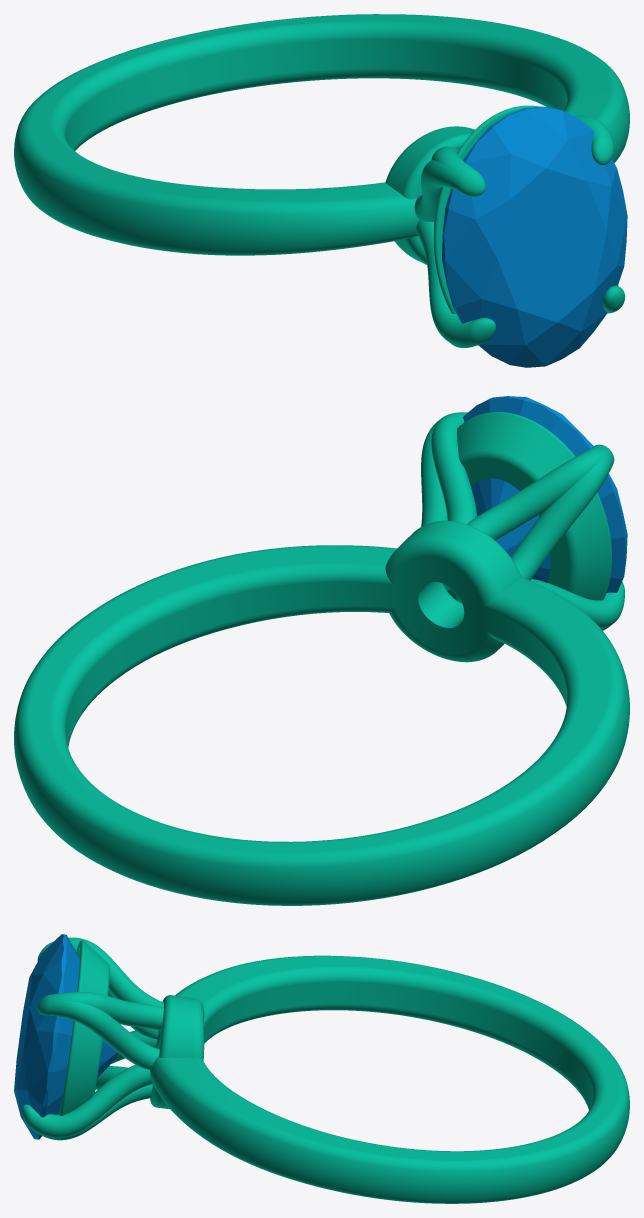
3 renders of one model, top to bottom at view 1: azimuth 30°, elevation 25°; view 2: azimuth 150°, elevation 25°; view 3: azimuth 270°, elevation 25°, orthographic. The views are drawn at different scales.
Visible parts, largest first — view 1: RING.JTC.SRO4(base).3dm, Diamond_Oval; view 2: RING.JTC.SRO4(base).3dm, Diamond_Oval; view 3: RING.JTC.SRO4(base).3dm, Diamond_Oval.
Boxes of the visible parts, bbox=[...] form: RING.JTC.SRO4(base).3dm: bbox=[14, 14, 629, 347]; Diamond_Oval: bbox=[442, 106, 627, 367]; RING.JTC.SRO4(base).3dm: bbox=[14, 412, 629, 905]; Diamond_Oval: bbox=[463, 396, 627, 593]; RING.JTC.SRO4(base).3dm: bbox=[21, 937, 629, 1203]; Diamond_Oval: bbox=[14, 934, 118, 1139].
Size of what is drawn, in the model's own units: 2.4 by 1.05 by 3.02.
